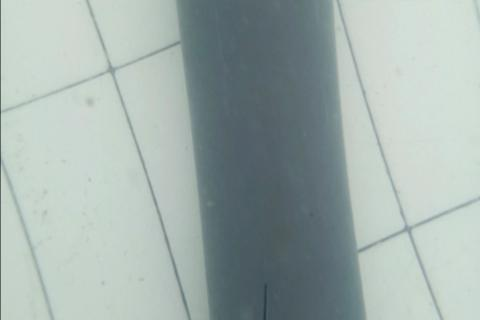keretakan: (260, 281, 269, 320)
